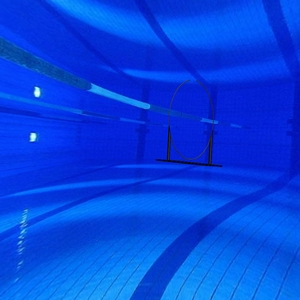circle: (155, 77, 225, 171)
